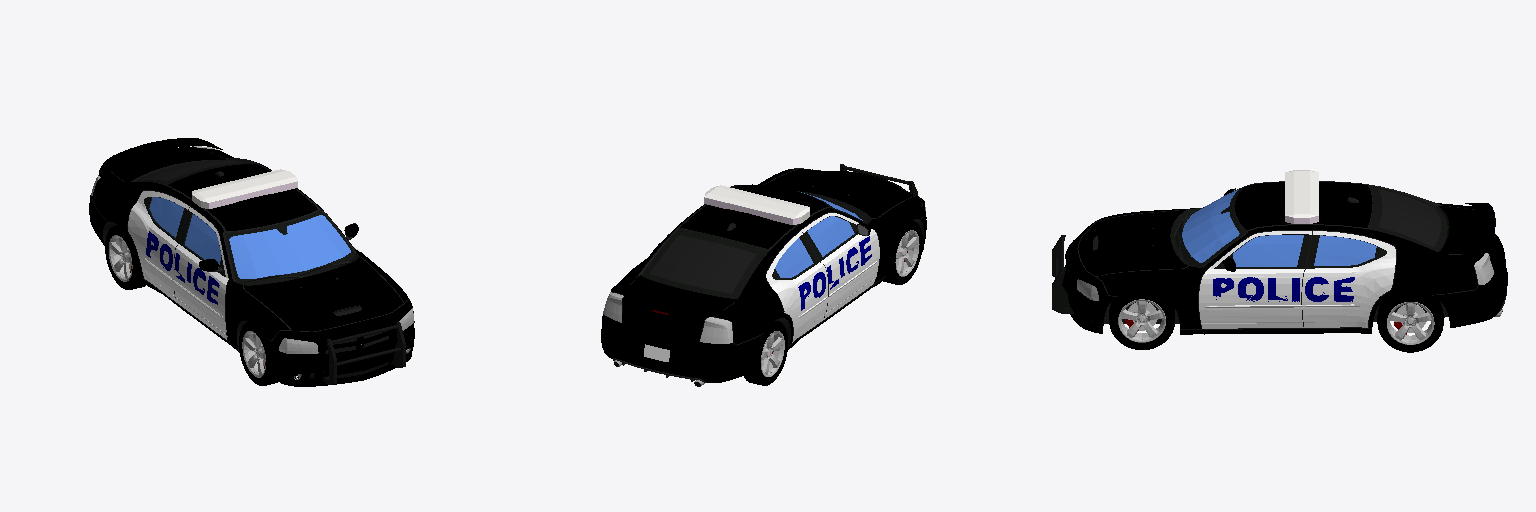
The picture shows the model from 3 angles: view 1: azimuth 30°, elevation 25°; view 2: azimuth 150°, elevation 25°; view 3: azimuth 270°, elevation 25°; orthographic projection.
Visible parts, largest first — view 1: Mesh204 all1 G_2006_Dodge_Charger_police_car1 Model, Mesh199 obj009_1 all1 G_2006_Dodge_Charger_police_car1 Model, Mesh1 Group1 all1 G_2006_Dodge_Charger_police_car1 Model, Mesh165 obj062_1 all1 G_2006_Dodge_Charger_police_car1 Model, Mesh197 obj008_1 all1 G_2006_Dodge_Charger_police_car1 Model, Mesh64 Component_1_1 all1 G_2006_Dodge_Charger_police_car1 Model, Mesh130 obj150_1 all1 G_2006_Dodge_Charger_police_car1 Model, Mesh196 obj008_1 all1 G_2006_Dodge_Charger_police_car1 Model, Mesh71 obj014_1 all1 G_2006_Dodge_Charger_police_car1 Model, Mesh202 bumper1 all1 G_2006_Dodge_Charger_police_car1 Model, Mesh133 obj163_1 all1 G_2006_Dodge_Charger_police_car1 Model, Mesh167 obj064_1 all1 G_2006_Dodge_Charger_police_car1 Model (+5 smaller); view 2: Mesh204 all1 G_2006_Dodge_Charger_police_car1 Model, Mesh194 obj007_1 all1 G_2006_Dodge_Charger_police_car1 Model, Mesh130 obj150_1 all1 G_2006_Dodge_Charger_police_car1 Model, Mesh93 obj238_1 all1 G_2006_Dodge_Charger_police_car1 Model, Mesh197 obj008_1 all1 G_2006_Dodge_Charger_police_car1 Model, Mesh199 obj009_1 all1 G_2006_Dodge_Charger_police_car1 Model, Mesh64 Component_1_1 all1 G_2006_Dodge_Charger_police_car1 Model, Mesh136 obj166_1 all1 G_2006_Dodge_Charger_police_car1 Model, Mesh196 obj008_1 all1 G_2006_Dodge_Charger_police_car1 Model, Mesh167 obj064_1 all1 G_2006_Dodge_Charger_police_car1 Model, Mesh32 obj211_2 Group3 all1 G_2006_Dodge_Charger_police_car1 Mod, Mesh200 obj010_1 all1 G_2006_Dodge_Charger_police_car1 Model (+4 smaller); view 3: Mesh203 all1 G_2006_Dodge_Charger_police_car1 Model, Mesh199 obj009_1 all1 G_2006_Dodge_Charger_police_car1 Model, Mesh197 obj008_1 all1 G_2006_Dodge_Charger_police_car1 Model, Mesh201 obj010_1 all1 G_2006_Dodge_Charger_police_car1 Model, Mesh194 obj007_1 all1 G_2006_Dodge_Charger_police_car1 Model, Mesh165 obj062_1 all1 G_2006_Dodge_Charger_police_car1 Model, Mesh198 obj008_1 all1 G_2006_Dodge_Charger_police_car1 Model, Mesh1 Group1 all1 G_2006_Dodge_Charger_police_car1 Model, Mesh93 obj238_1 all1 G_2006_Dodge_Charger_police_car1 Model, Mesh166 obj063_1 all1 G_2006_Dodge_Charger_police_car1 Model, Mesh64 Component_1_1 all1 G_2006_Dodge_Charger_police_car1 Model, Mesh47 obj211_3 Group4 all1 G_2006_Dodge_Charger_police_car1 Mod (+9 smaller).
Boxes of the visible parts, box(x1,y1,x2,y2) form: Mesh204 all1 G_2006_Dodge_Charger_police_car1 Model: box(92, 172, 289, 339); Mesh199 obj009_1 all1 G_2006_Dodge_Charger_police_car1 Model: box(244, 257, 403, 331); Mesh1 Group1 all1 G_2006_Dodge_Charger_police_car1 Model: box(267, 300, 414, 386); Mesh165 obj062_1 all1 G_2006_Dodge_Charger_police_car1 Model: box(229, 215, 350, 278); Mesh197 obj008_1 all1 G_2006_Dodge_Charger_police_car1 Model: box(168, 164, 317, 230); Mesh64 Component_1_1 all1 G_2006_Dodge_Charger_police_car1 Model: box(192, 169, 297, 208); Mesh130 obj150_1 all1 G_2006_Dodge_Charger_police_car1 Model: box(112, 146, 225, 181); Mesh196 obj008_1 all1 G_2006_Dodge_Charger_police_car1 Model: box(120, 182, 232, 280); Mesh71 obj014_1 all1 G_2006_Dodge_Charger_police_car1 Model: box(225, 209, 355, 284); Mesh202 bumper1 all1 G_2006_Dodge_Charger_police_car1 Model: box(323, 322, 405, 384); Mesh133 obj163_1 all1 G_2006_Dodge_Charger_police_car1 Model: box(99, 138, 222, 179); Mesh167 obj064_1 all1 G_2006_Dodge_Charger_police_car1 Model: box(185, 214, 221, 267); Mesh204 all1 G_2006_Dodge_Charger_police_car1 Model: box(715, 196, 922, 344); Mesh194 obj007_1 all1 G_2006_Dodge_Charger_police_car1 Model: box(601, 314, 762, 382); Mesh130 obj150_1 all1 G_2006_Dodge_Charger_police_car1 Model: box(622, 275, 736, 345); Mesh93 obj238_1 all1 G_2006_Dodge_Charger_police_car1 Model: box(650, 235, 756, 293); Mesh197 obj008_1 all1 G_2006_Dodge_Charger_police_car1 Model: box(680, 184, 828, 248); Mesh199 obj009_1 all1 G_2006_Dodge_Charger_police_car1 Model: box(764, 169, 914, 217); Mesh64 Component_1_1 all1 G_2006_Dodge_Charger_police_car1 Model: box(704, 185, 809, 224); Mesh136 obj166_1 all1 G_2006_Dodge_Charger_police_car1 Model: box(642, 228, 768, 298); Mesh196 obj008_1 all1 G_2006_Dodge_Charger_police_car1 Model: box(736, 208, 866, 302); Mesh167 obj064_1 all1 G_2006_Dodge_Charger_police_car1 Model: box(807, 216, 854, 256); Mesh32 obj211_2 Group3 all1 G_2006_Dodge_Charger_police_car1 Mod: box(744, 321, 787, 385); Mesh200 obj010_1 all1 G_2006_Dodge_Charger_police_car1 Model: box(788, 259, 889, 349); Mesh203 all1 G_2006_Dodge_Charger_police_car1 Model: box(1097, 231, 1477, 328); Mesh199 obj009_1 all1 G_2006_Dodge_Charger_police_car1 Model: box(1078, 209, 1187, 275); Mesh197 obj008_1 all1 G_2006_Dodge_Charger_police_car1 Model: box(1234, 182, 1372, 229); Mesh201 obj010_1 all1 G_2006_Dodge_Charger_police_car1 Model: box(1178, 309, 1374, 334); Mesh194 obj007_1 all1 G_2006_Dodge_Charger_police_car1 Model: box(1434, 234, 1507, 327); Mesh165 obj062_1 all1 G_2006_Dodge_Charger_police_car1 Model: box(1182, 189, 1239, 262); Mesh198 obj008_1 all1 G_2006_Dodge_Charger_police_car1 Model: box(1204, 225, 1442, 267); Mesh1 Group1 all1 G_2006_Dodge_Charger_police_car1 Model: box(1062, 220, 1115, 333); Mesh93 obj238_1 all1 G_2006_Dodge_Charger_police_car1 Model: box(1379, 190, 1441, 246); Mesh166 obj063_1 all1 G_2006_Dodge_Charger_police_car1 Model: box(1233, 235, 1303, 266); Mesh64 Component_1_1 all1 G_2006_Dodge_Charger_police_car1 Model: box(1285, 170, 1318, 223); Mesh47 obj211_3 Group4 all1 G_2006_Dodge_Charger_police_car1 Mod: box(1377, 291, 1443, 352).
Bounding box in the file's own units: 2.86 × 2.18 × 7.16.
21 materials, 4 textured.